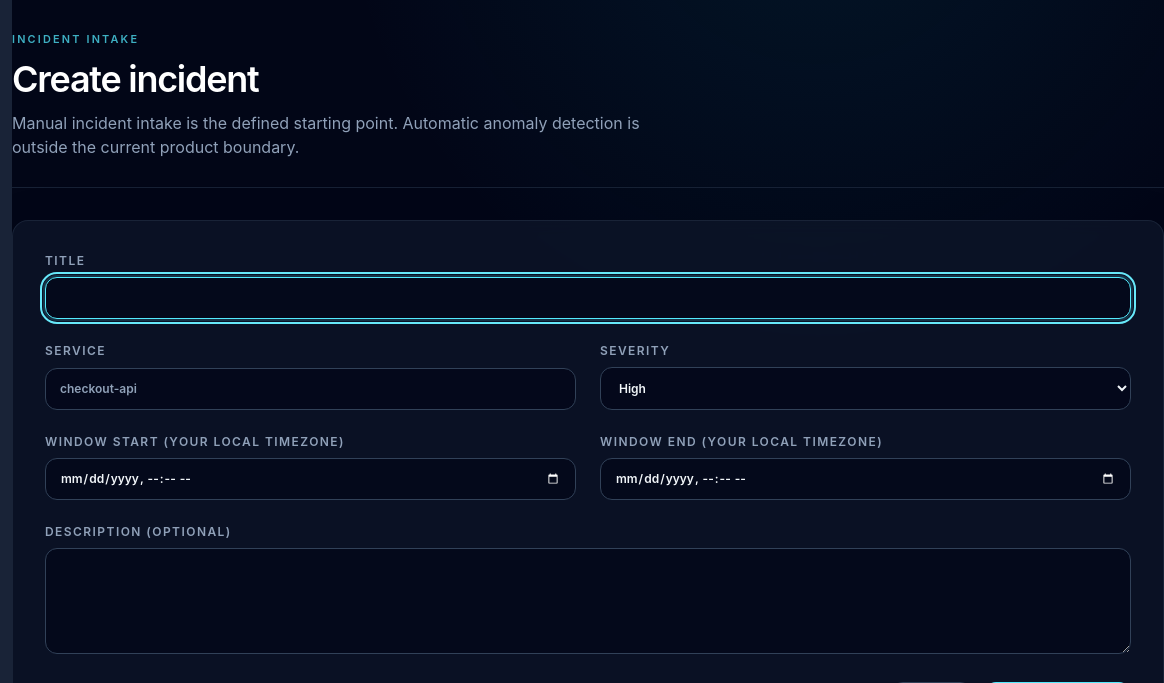
Test: manual incident intake › maps backend validation issues to their fields
Type "API latency" into the field labelled "Title".
click(588, 298); type("API latency")  # box [45,277,1131,319]
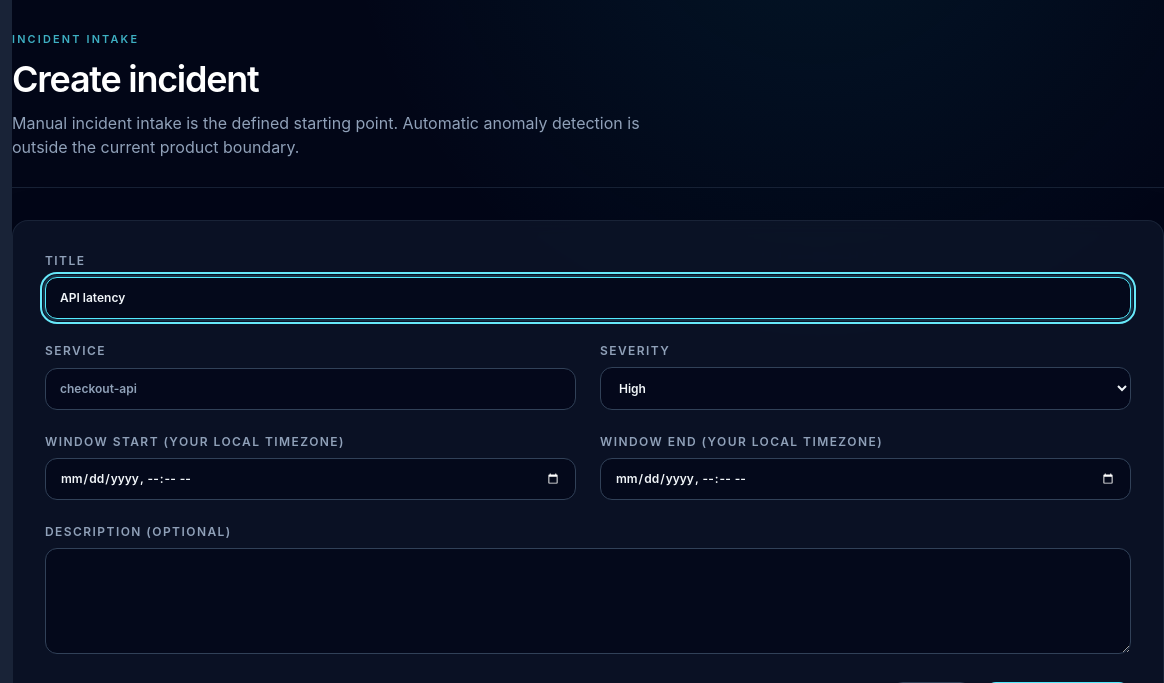
Type "unknown-api" into the field labelled "Service".
click(310, 389); type("unknown-api")  # box [45,368,576,410]
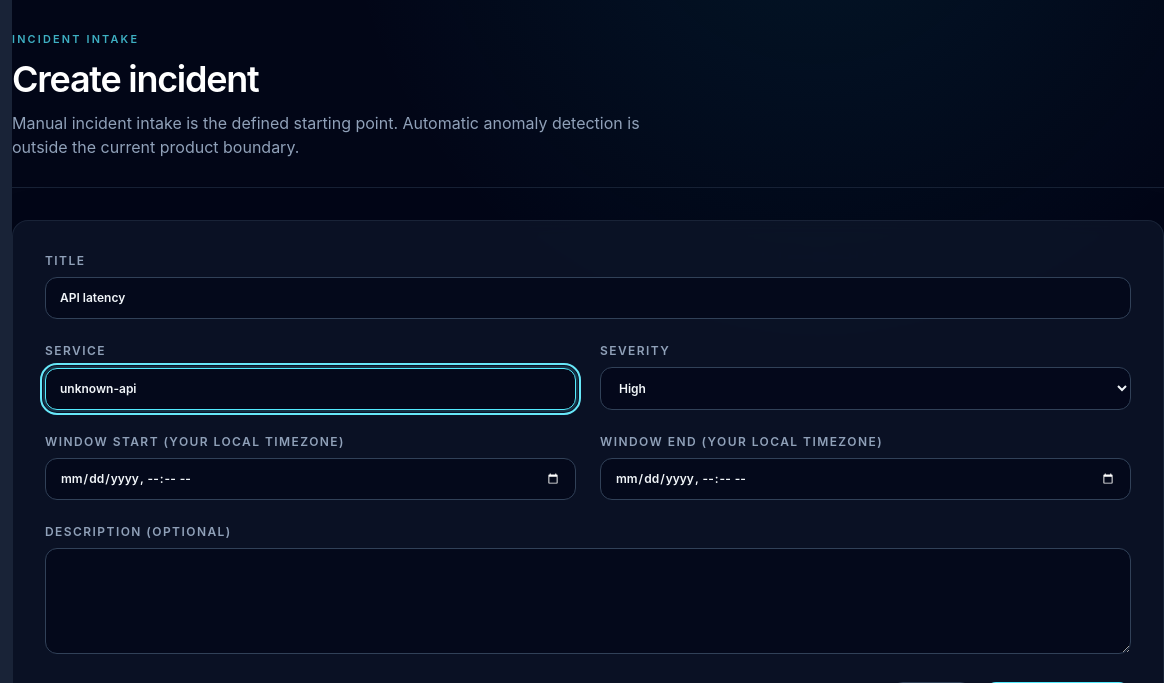
Type "2026-09-21T10:00" into the field labelled "Window start (your local timezone)".
click(310, 479); type("2026-09-21T10:00")  # box [45,458,576,500]
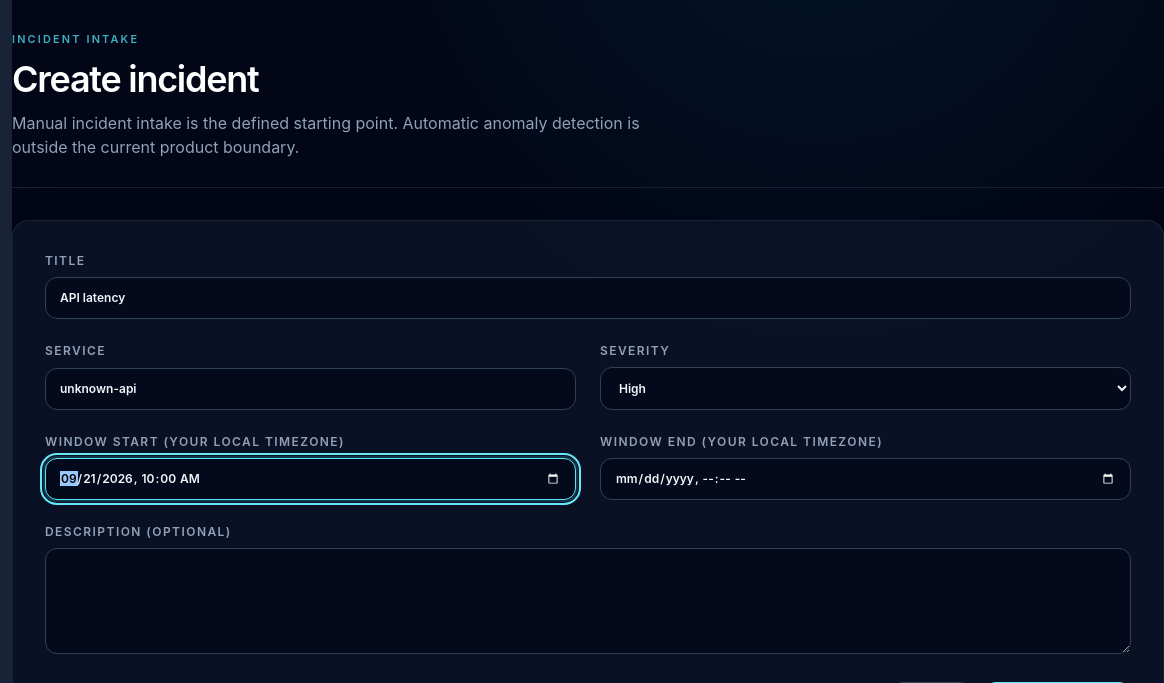
Type "2026-09-21T11:00" into the field labelled "Window end (your local timezone)".
click(866, 479); type("2026-09-21T11:00")  # box [600,458,1131,500]
(page scrolled)
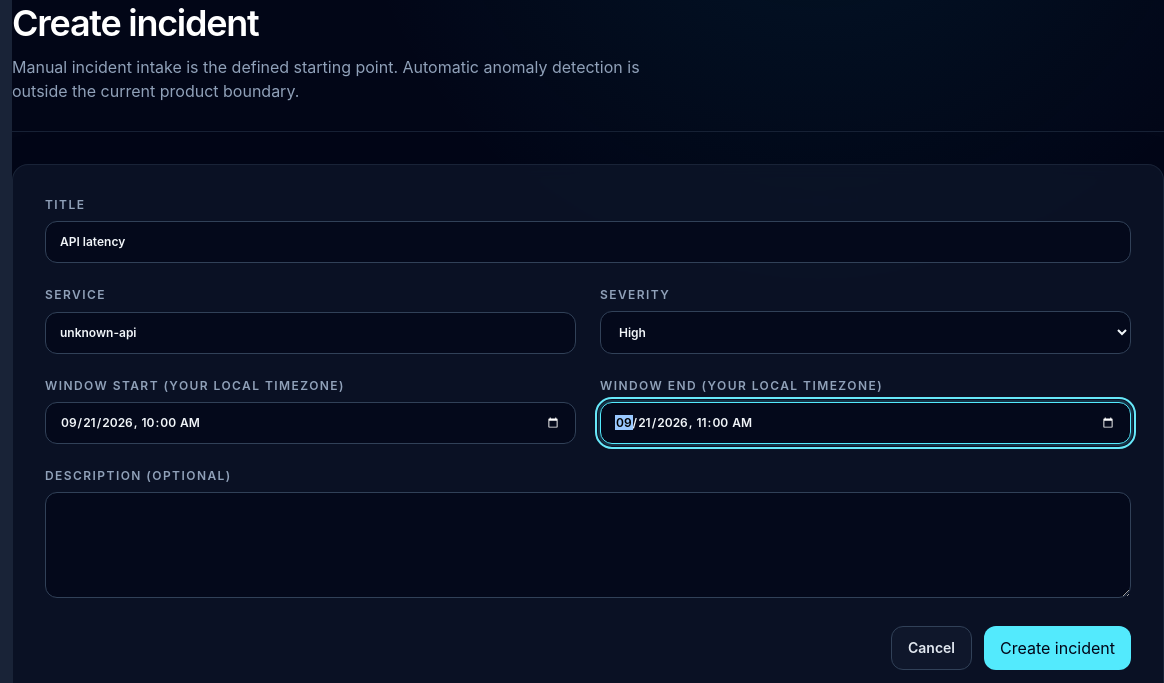
Click the button "Create incident".
click(1058, 648)  # box [984,626,1131,670]
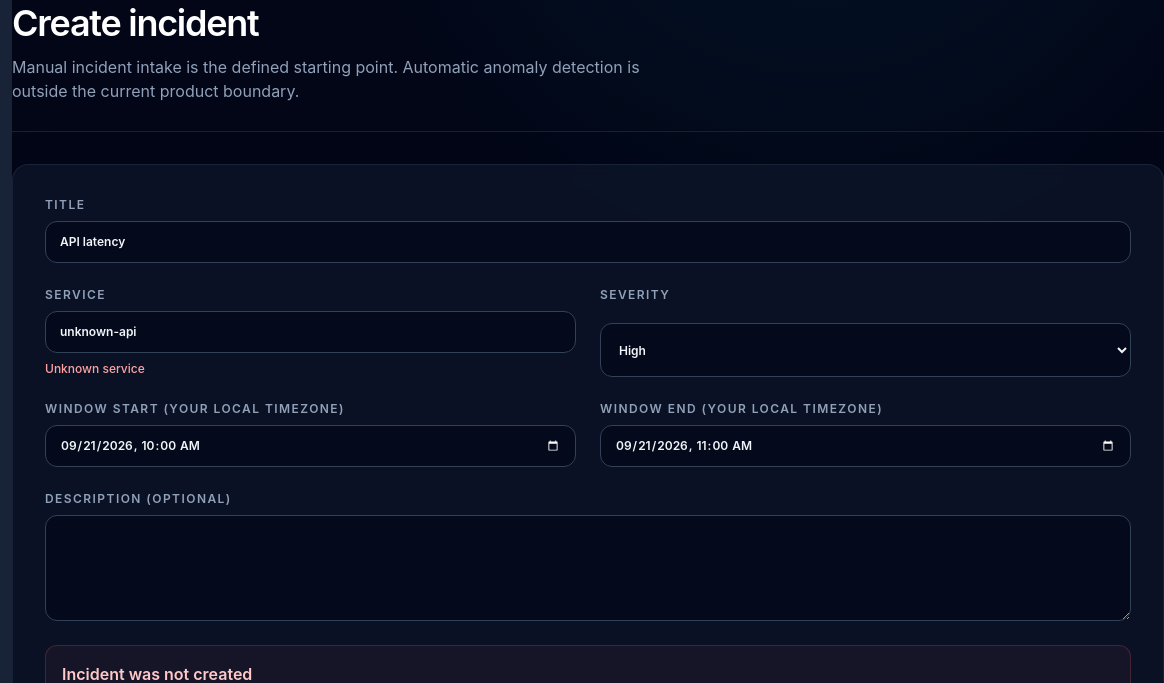
Now the text "Unknown service" is shown, box [45,361,145,376]
